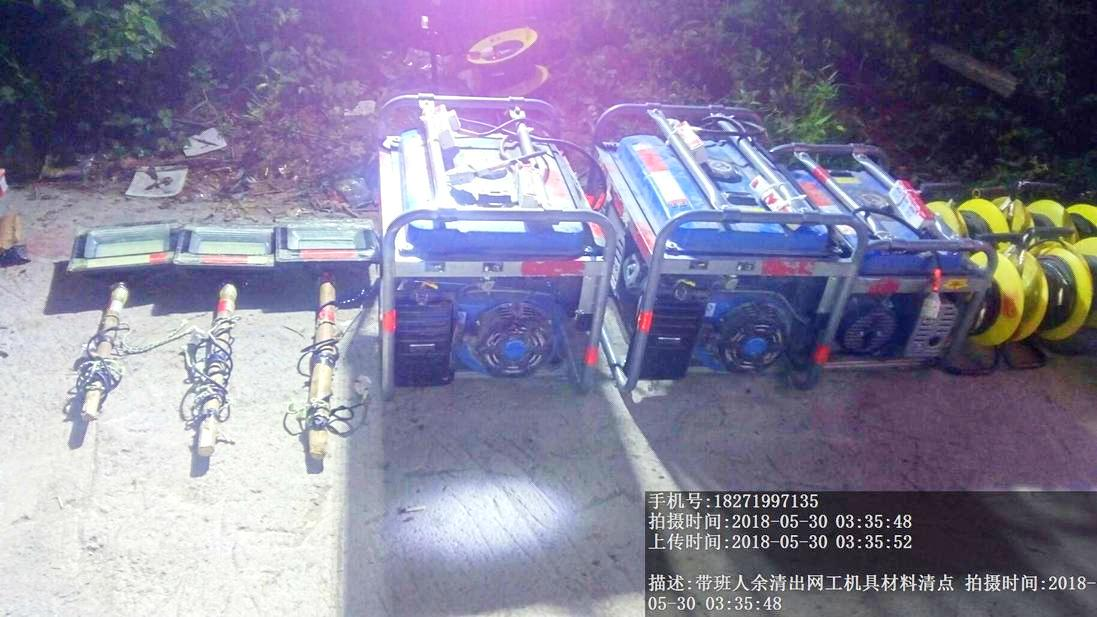DJ: (371, 89, 611, 392), (602, 95, 825, 392), (815, 136, 974, 380)
